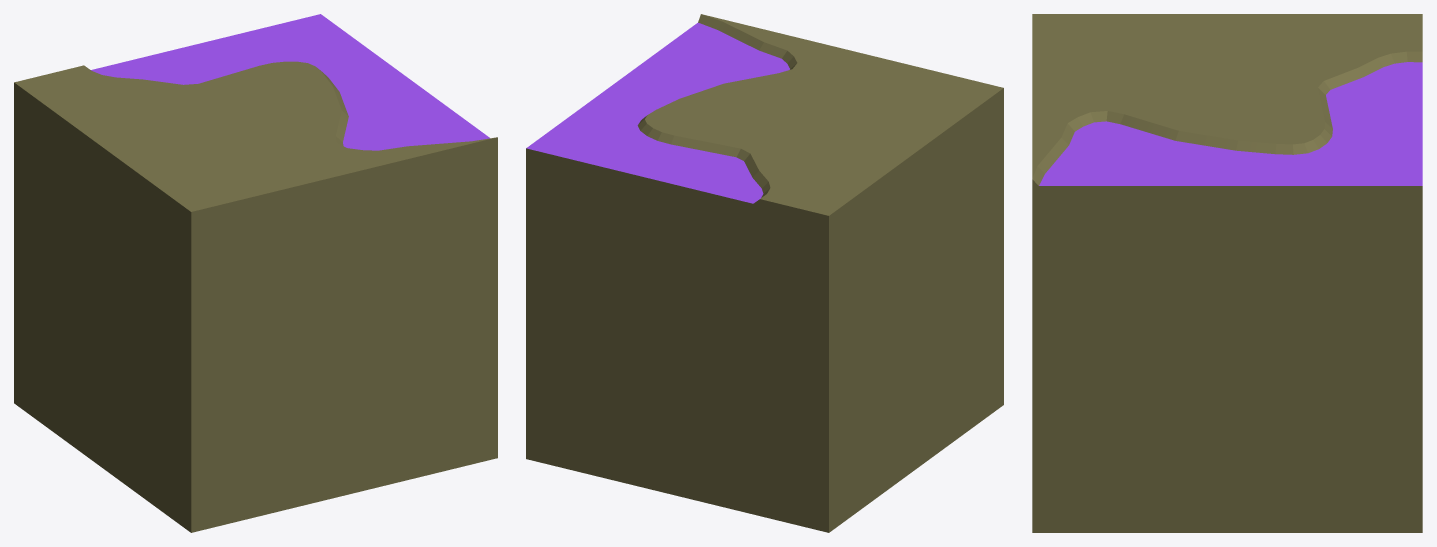
The model's file is tile_toxic_4d_01.fbx.
3 renders of one model, left to right at view 1: azimuth 30°, elevation 25°; view 2: azimuth 150°, elevation 25°; view 3: azimuth 270°, elevation 25°, orthographic. The views are drawn at different scales.
Visible parts, largest first — view 1: tile_toxic_4d_01; view 2: tile_toxic_4d_01; view 3: tile_toxic_4d_01.
Part boxes in pixels (left/top/right/bottom): tile_toxic_4d_01: left=14, top=14, right=497, bottom=532; tile_toxic_4d_01: left=526, top=14, right=1003, bottom=532; tile_toxic_4d_01: left=1032, top=14, right=1422, bottom=532.
Bounding box in the file's own units: 100 × 100 × 100.
